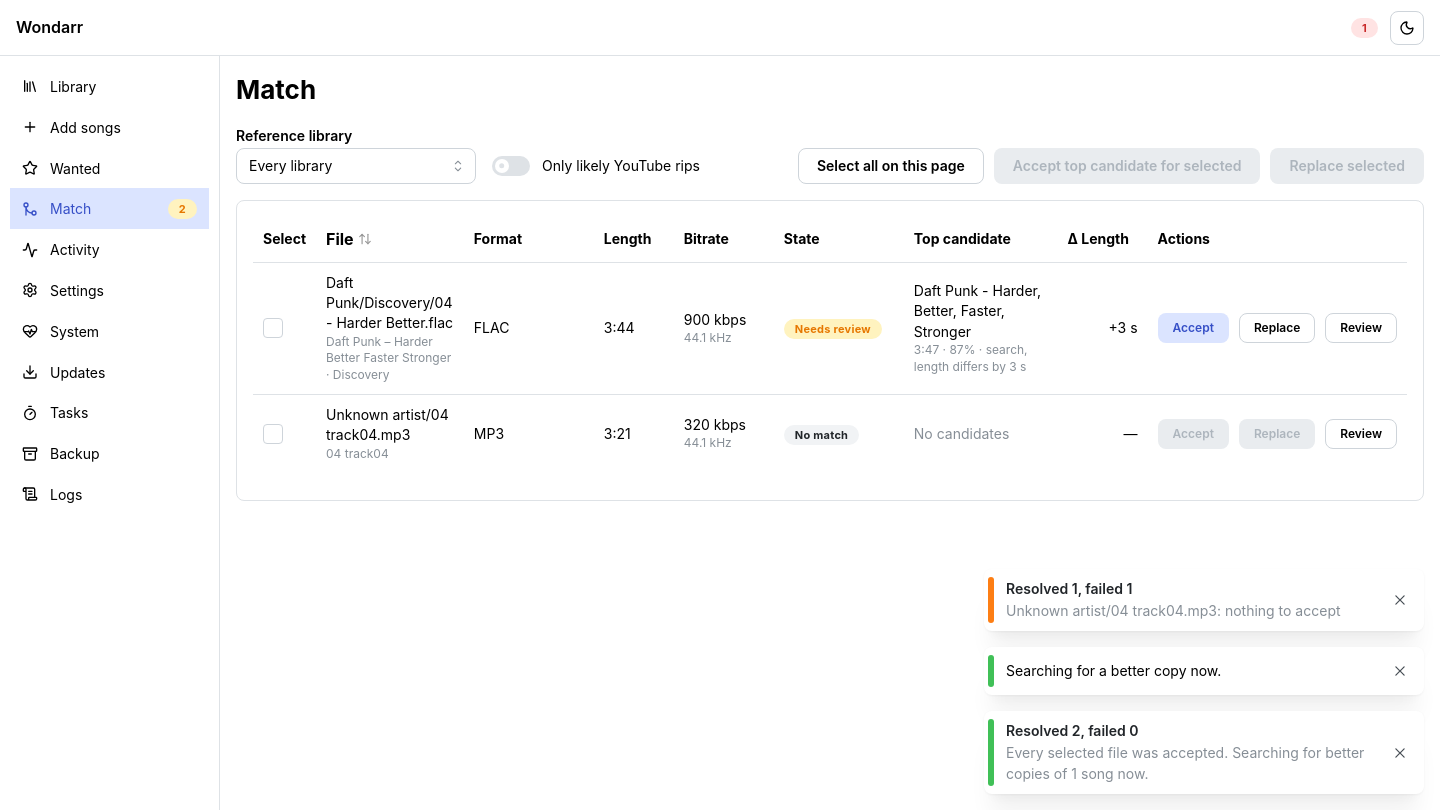
Test: MatchQueuePage › says so when Replace for the selection has nothing to search for
The width and height of the screenshot is (1440, 810).
Click the button "Select all on this page" at (891, 166), box 798,148 -> 984,184
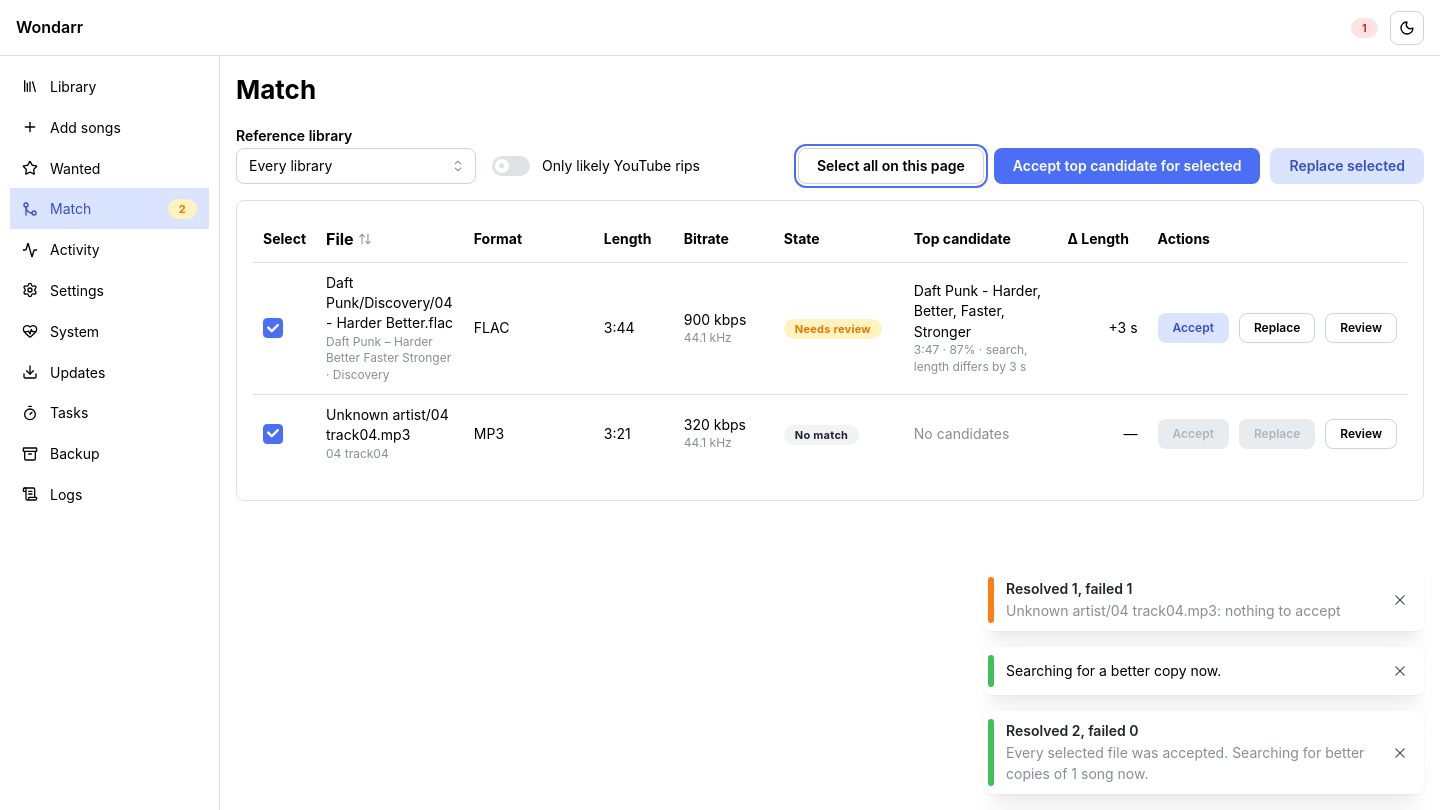
Click the button "Replace selected" at (1347, 166), box 1270,148 -> 1424,184
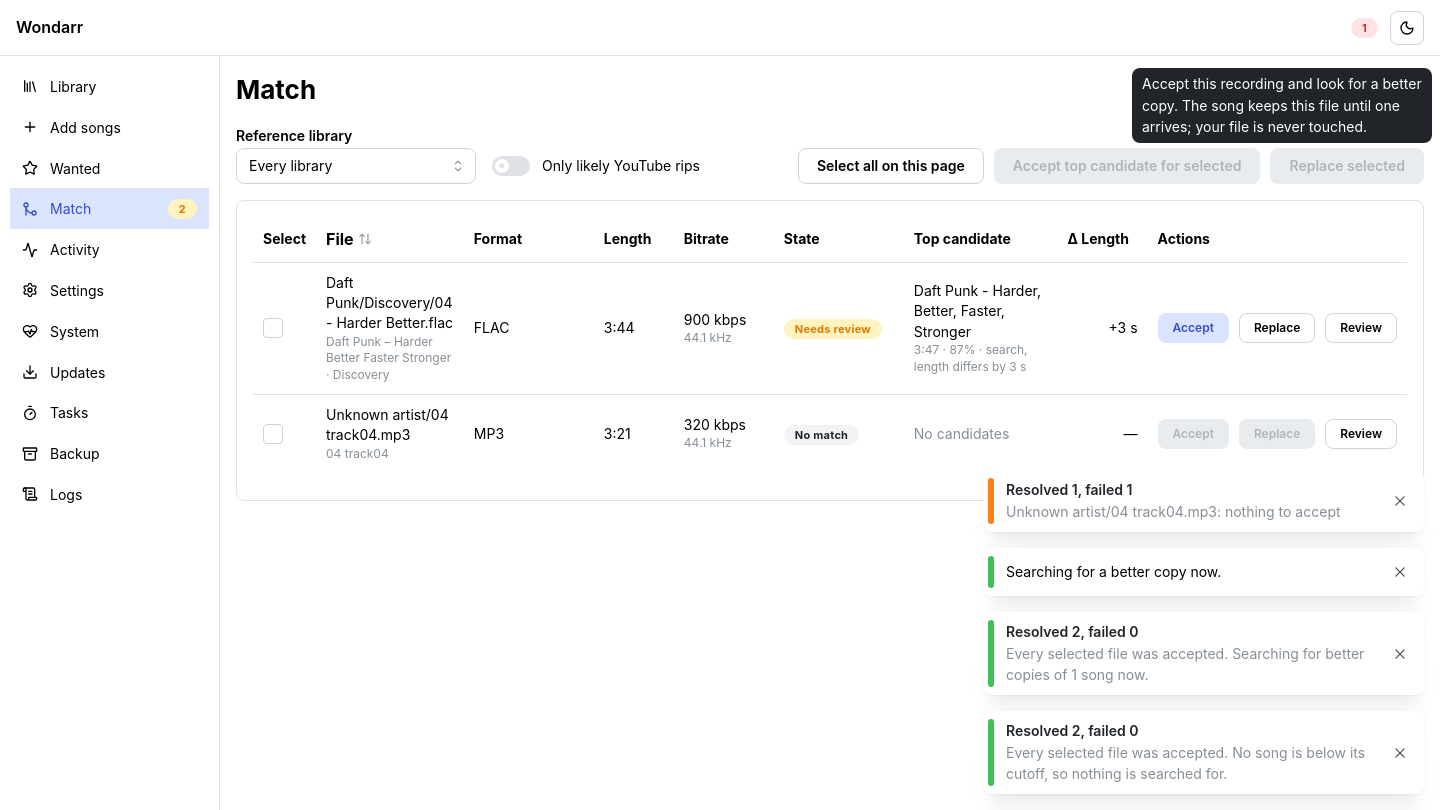
expect the text "No song is below its cutoff, so nothing is searched for" is shown: met, box 1006,744 -> 1365,782
